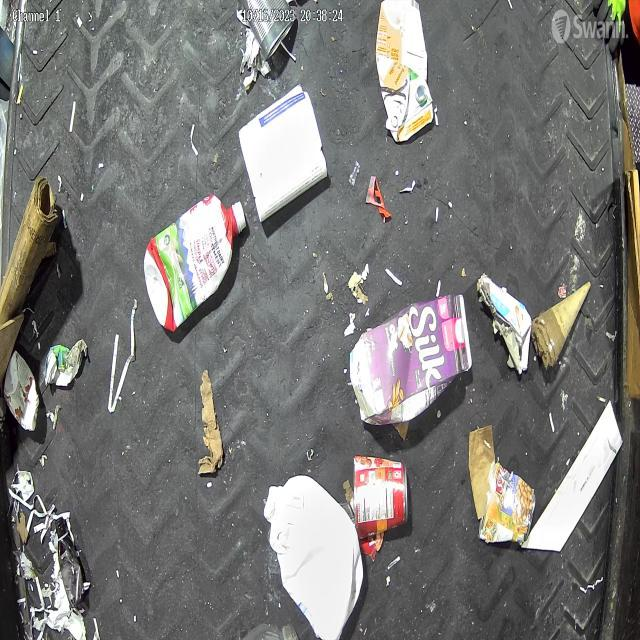can: (346, 446, 414, 539), (245, 0, 303, 67)
milk_jug: (256, 470, 371, 640)
